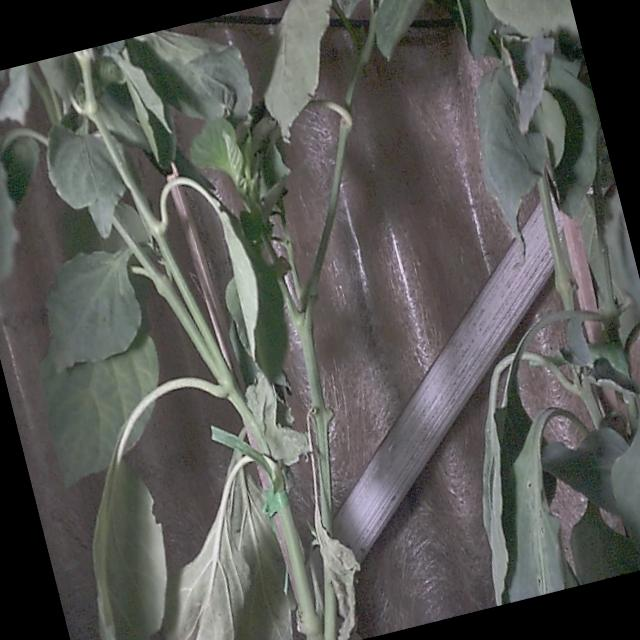Leaf: (163, 454, 292, 639), (42, 334, 158, 486), (92, 459, 166, 639), (476, 67, 547, 240), (46, 249, 140, 370), (261, 0, 330, 140), (47, 126, 124, 237), (611, 396, 639, 550), (485, 0, 578, 36), (375, 0, 423, 59)
